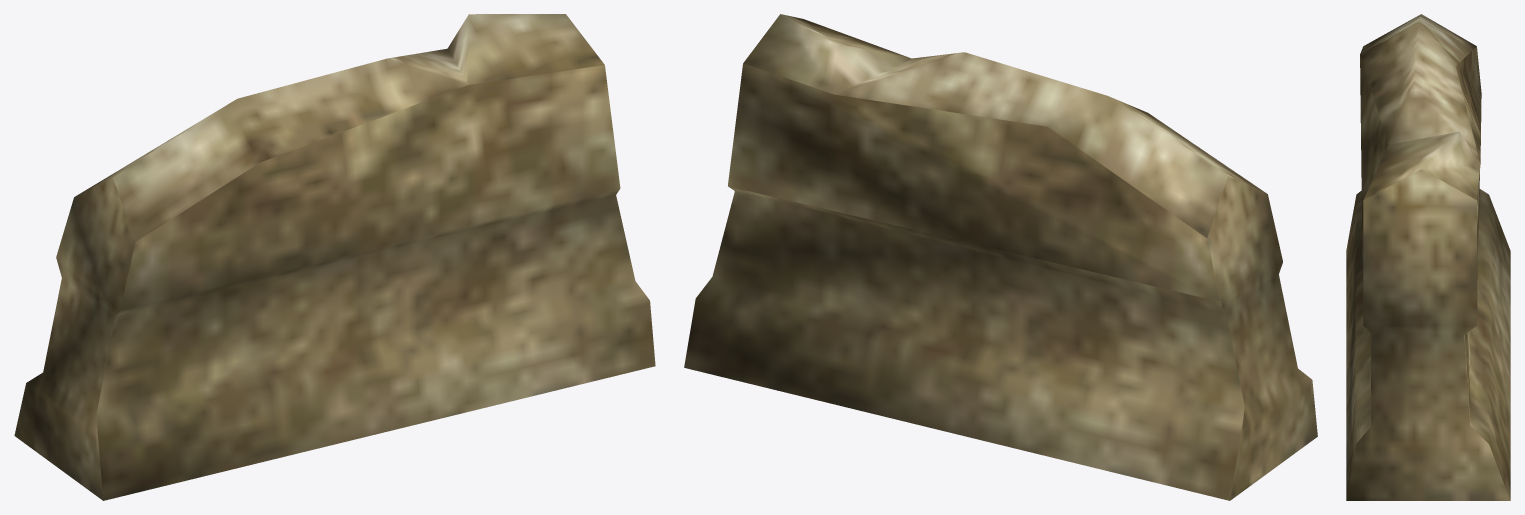
Rendered from b_general_obj_17.fbx.
The picture shows the model from 3 angles, left to right: view 1: azimuth 30°, elevation 25°; view 2: azimuth 150°, elevation 25°; view 3: azimuth 270°, elevation 25°; orthographic projection. The views are drawn at different scales.
Visible parts, largest first — view 1: Object01; view 2: Object01; view 3: Object01.
Boxes of the visible parts, x1,y1,x2,y2 form: Object01: [14, 14, 655, 500]; Object01: [684, 14, 1317, 500]; Object01: [1346, 14, 1510, 500].
Bounding box in the file's own units: 1.86 × 1.09 × 0.5184.
